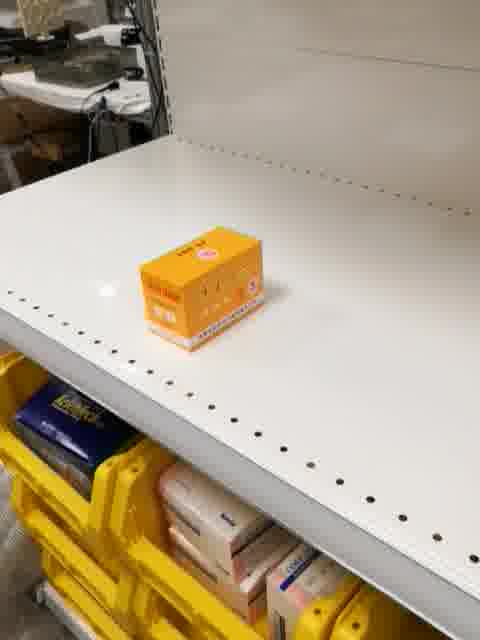jasminetea: (137, 224, 269, 358)
